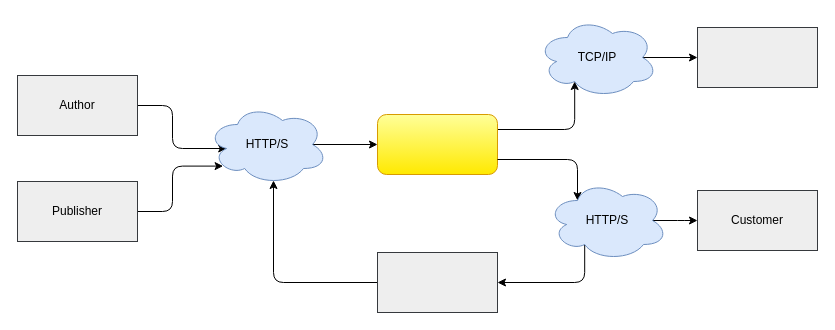
Some shapes in this 835 by 330 pixel diagram are drawn without their labels. Each missing label, with the centre of its shape:
"Agile Dead Trees" belongs at point 437,144.
"Printing Service" belongs at point 757,57.
"Reviewer" belongs at point 437,282.
